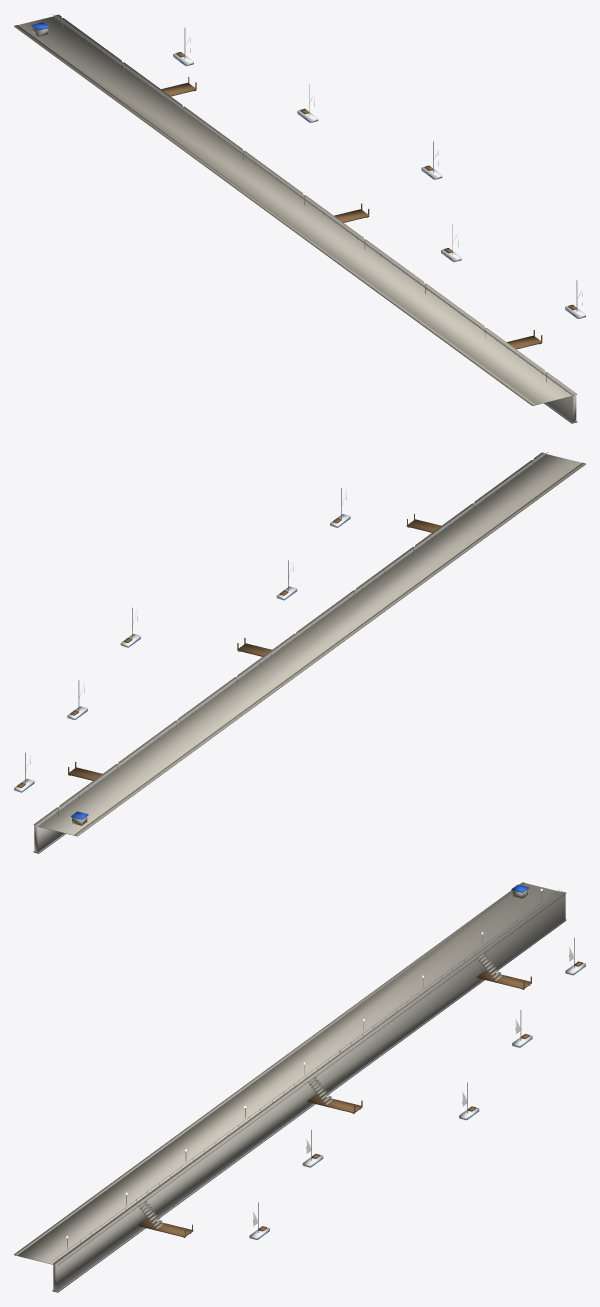
The model's file is paulistano_guarapiranga_reservoir.glb.
The picture shows the model from 3 angles, top to bottom: view 1: azimuth 30°, elevation 25°; view 2: azimuth 150°, elevation 25°; view 3: azimuth 330°, elevation 25°; orthographic projection.
Parts seen in each view (by area): view 1: Surface_promenade, Surface_stone, Surface_concrete, Surface_timber, Surface_steel, Surface_hull_white; view 2: Surface_promenade, Surface_stone, Surface_concrete, Surface_timber, Surface_steel, Surface_hull_white; view 3: Surface_promenade, Surface_concrete, Surface_stone, Surface_timber, Surface_concrete_dark, Surface_steel, Surface_hull_white.
Part boxes in pixels (x1,y1,x2,y2): Surface_promenade: (18, 16, 571, 404); Surface_stone: (14, 14, 577, 405); Surface_concrete: (32, 15, 576, 422); Surface_timber: (161, 52, 576, 349); Surface_steel: (53, 14, 577, 393); Surface_hull_white: (173, 53, 585, 318); Surface_promenade: (38, 454, 581, 835); Surface_stone: (33, 452, 585, 836); Surface_concrete: (34, 453, 545, 852); Surface_timber: (17, 514, 441, 787); Surface_steel: (25, 452, 547, 823); Surface_hull_white: (14, 514, 350, 792); Surface_promenade: (17, 883, 560, 1264); Surface_concrete: (53, 889, 565, 1291); Surface_stone: (14, 882, 566, 1265); Surface_timber: (137, 961, 582, 1237); Surface_concrete_dark: (52, 919, 566, 1292); Surface_steel: (52, 890, 574, 1261); Surface_hull_white: (249, 963, 585, 1239).
Bounding box in the file's own units: 74.55 × 16.25 × 360.
